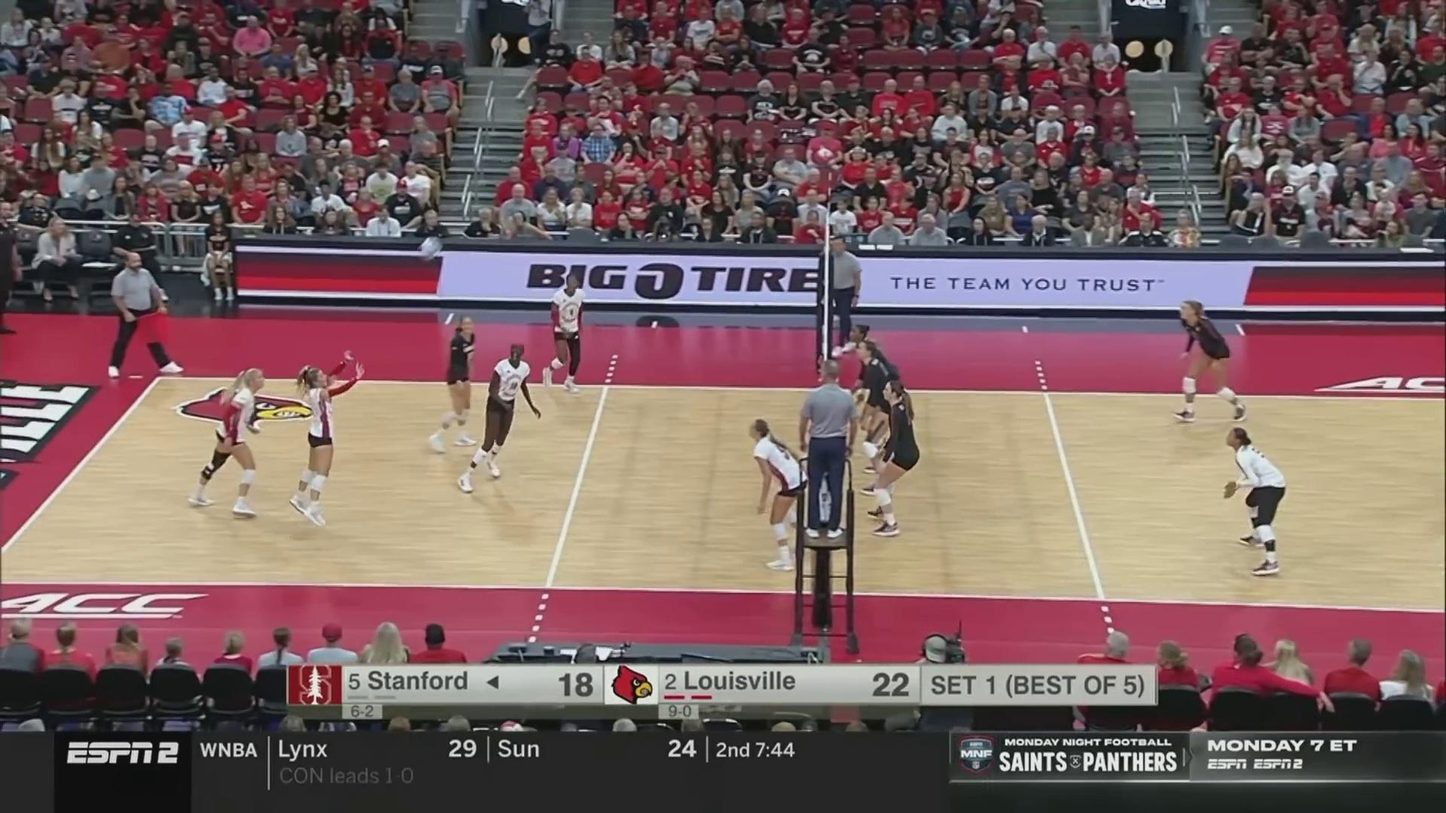player: (290, 352, 363, 524), (458, 343, 536, 491), (188, 369, 266, 515), (1219, 427, 1287, 574), (746, 420, 811, 569), (1175, 299, 1249, 422), (869, 380, 919, 540), (856, 343, 902, 493), (429, 315, 477, 449), (846, 324, 895, 454), (543, 273, 585, 392)
refree: (797, 363, 857, 534), (107, 258, 181, 380), (822, 236, 862, 355)
